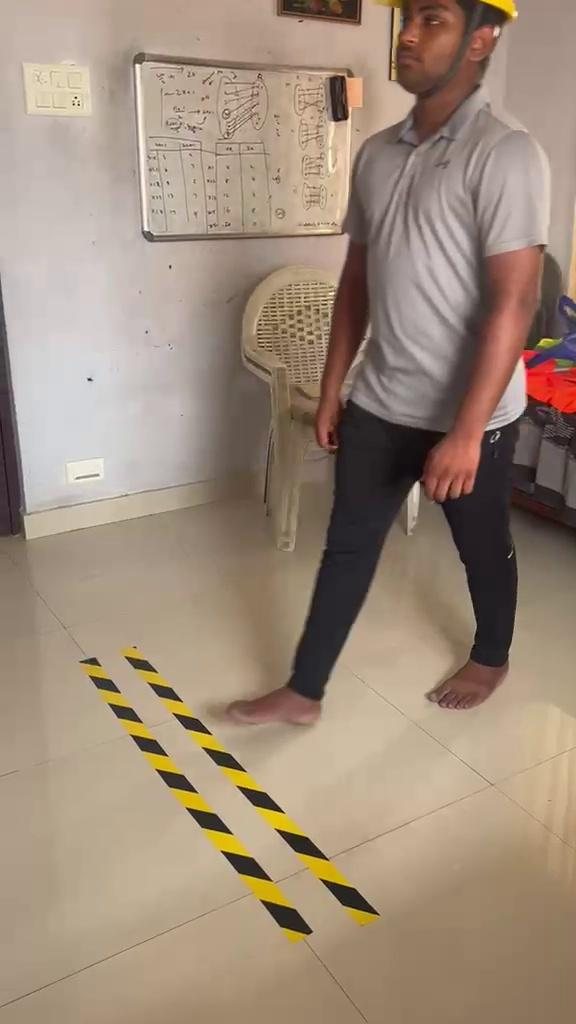BorderLine: (77, 647, 381, 944)
Helmet: (373, 0, 518, 23)
No_Vest: (342, 84, 550, 432)
Person: (224, 0, 550, 727)
